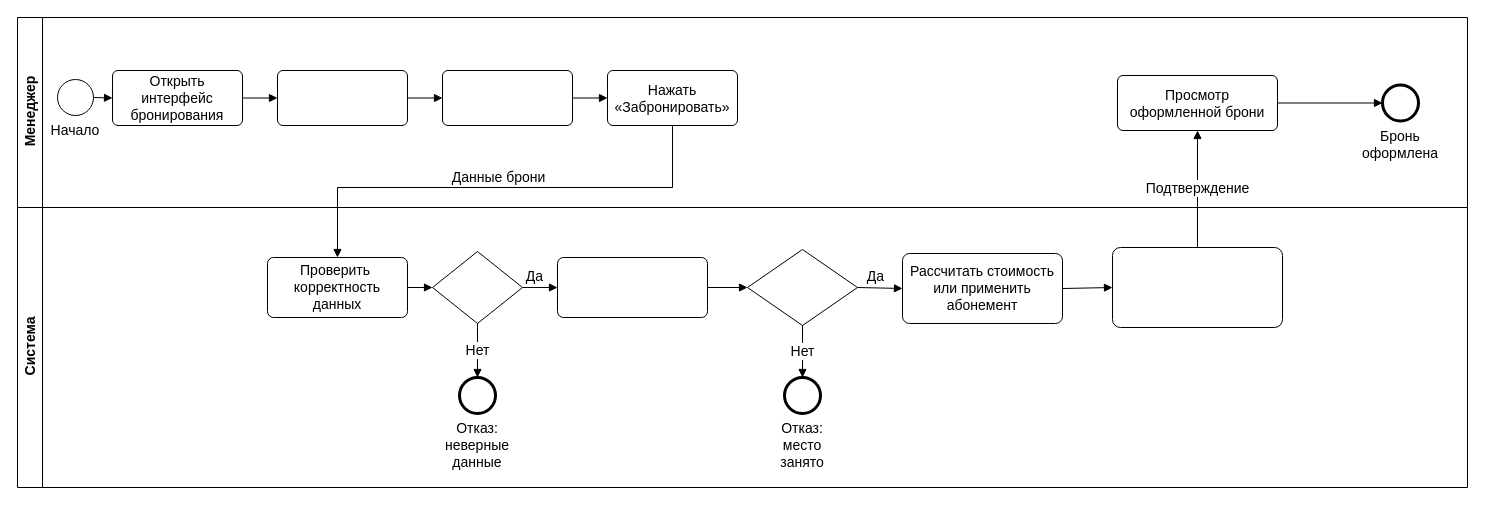
The diagram is 1485 pixels wide and 505 high, and some of its shapes have lost their labels. Here are the shapes that lost their labels. From the top down, the centre of each, then its label:
At (342,98): "Найти клиента или добавить нового".
At (507,98): "Выбрать место, дату и интервал".
At (477,287): "Данные верны?".
At (632,287): "Проверить доступность места".
At (802,287): "Место свободно?".
At (1197,287): "Сохранить бронирование за клиентом в хранилище данных и обновить карту мест".
